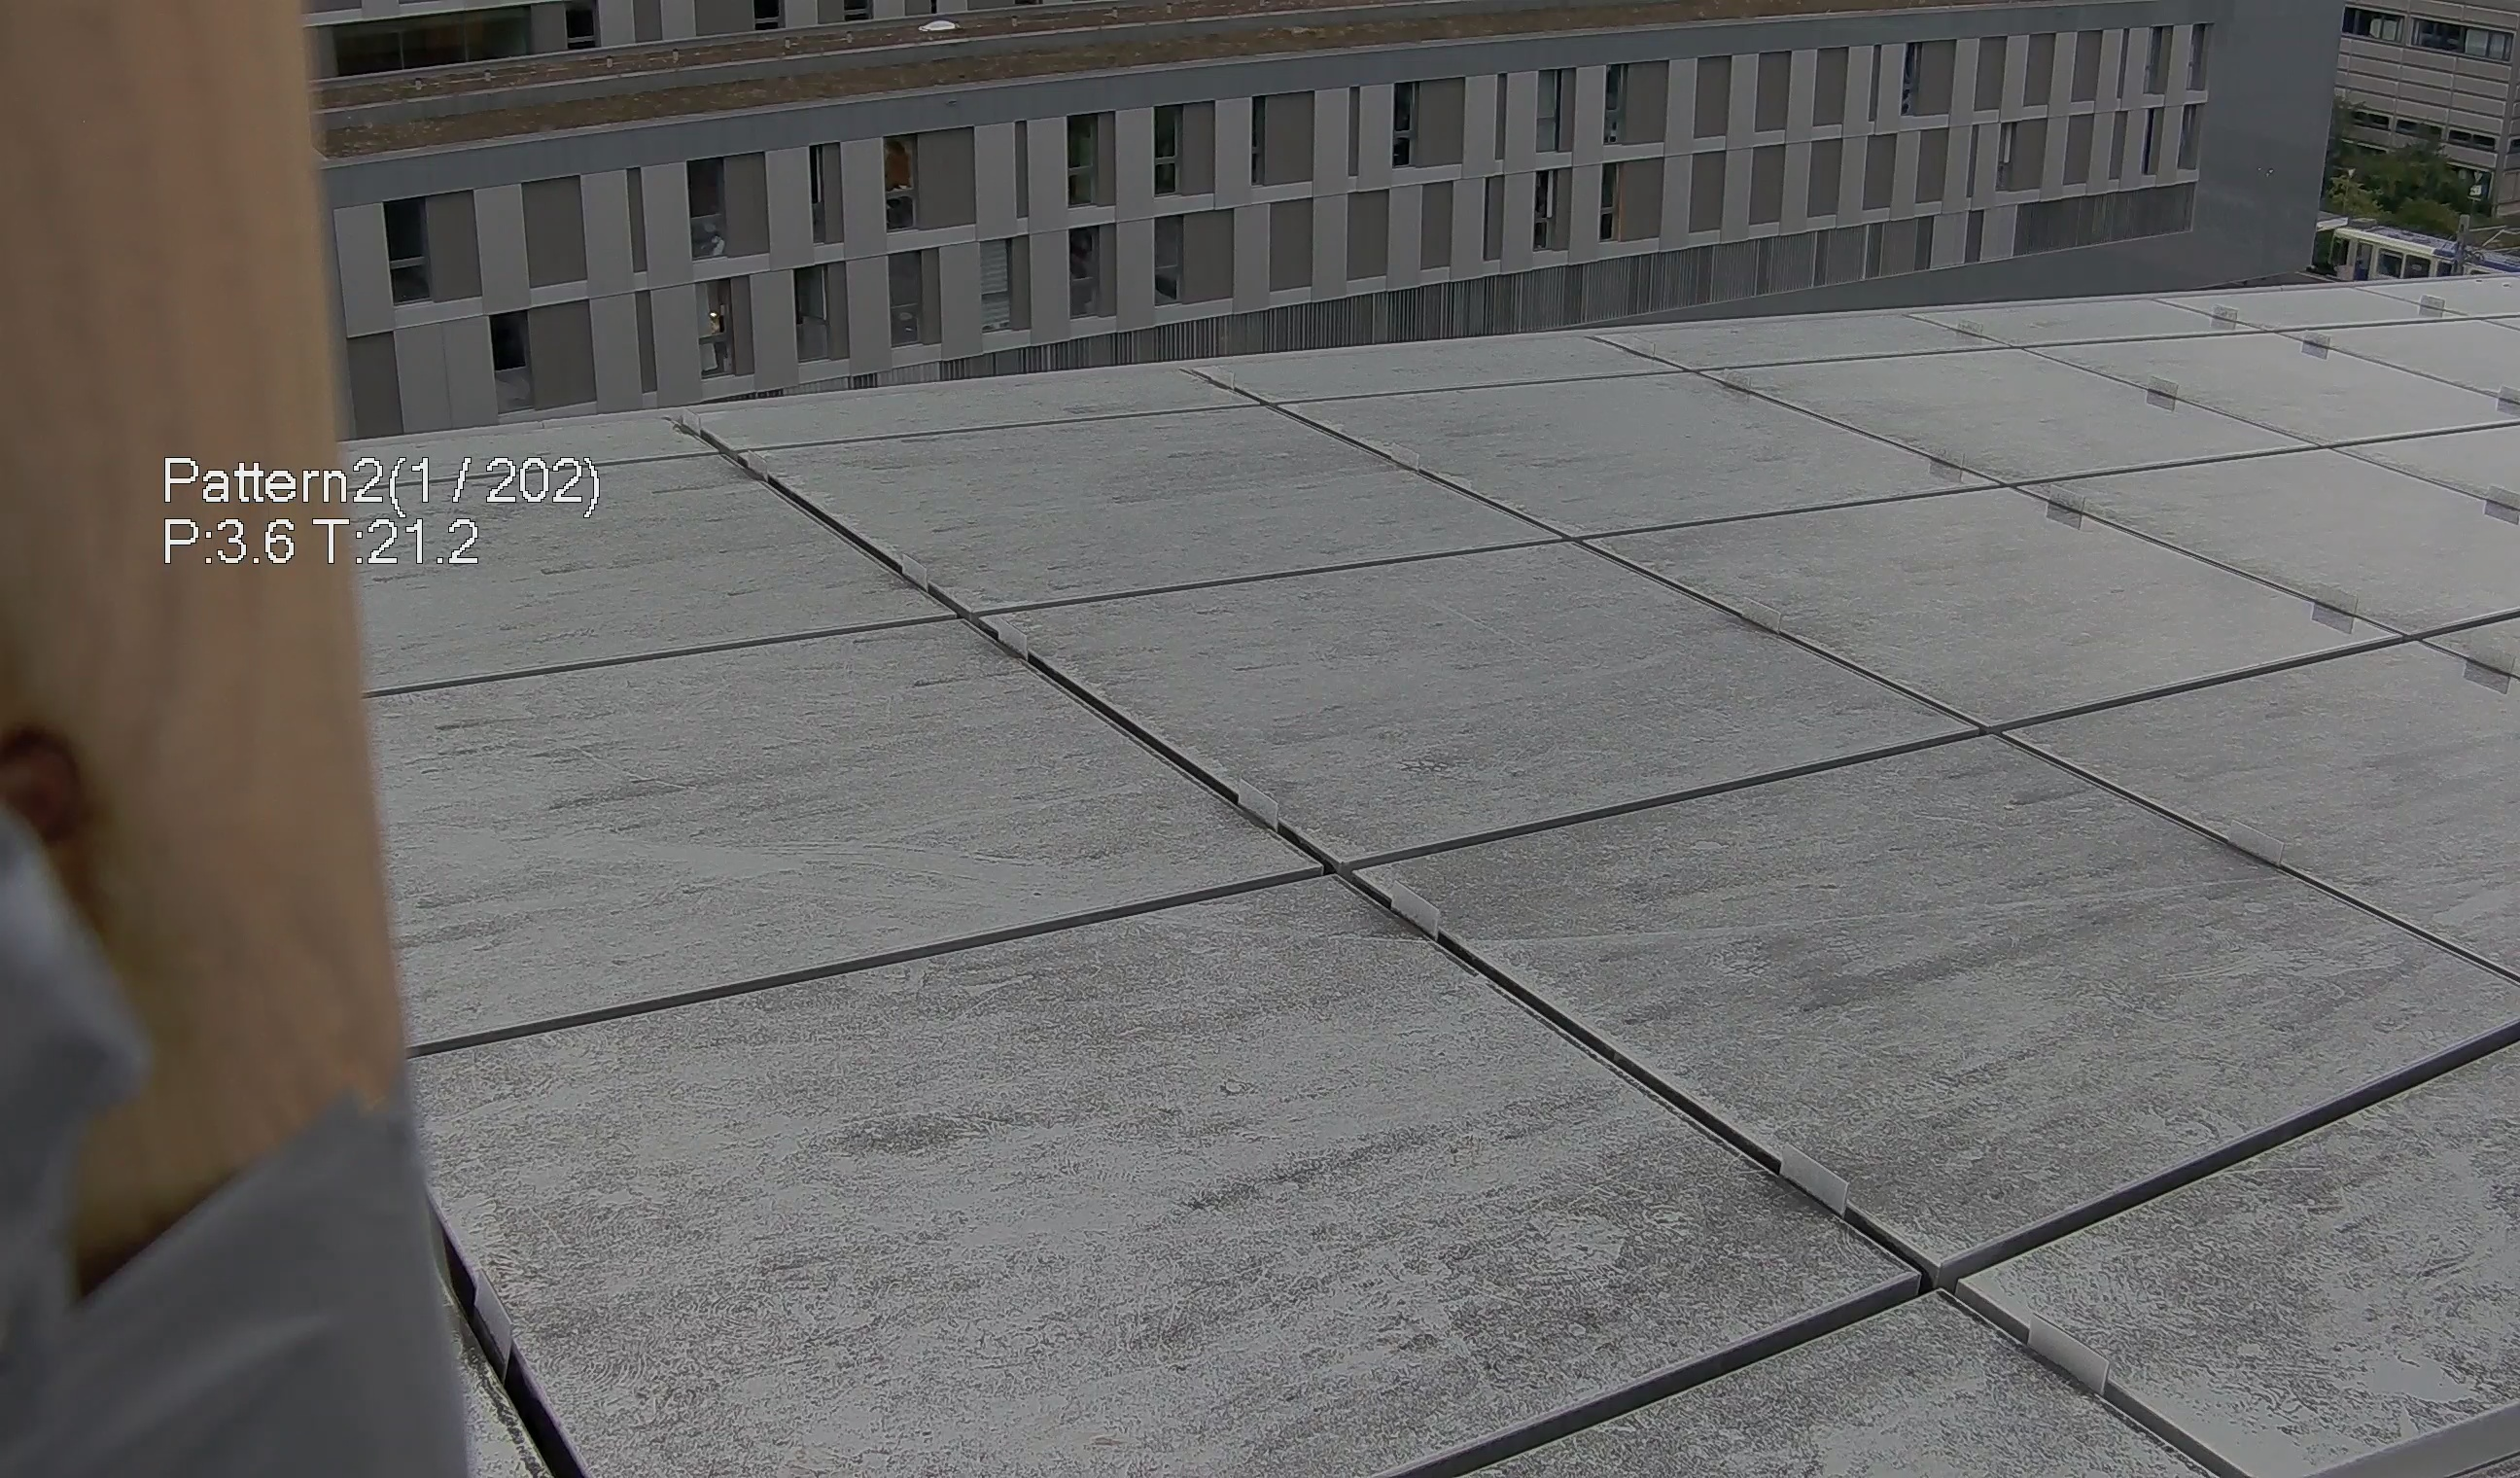Other: (0, 755, 164, 1316)
